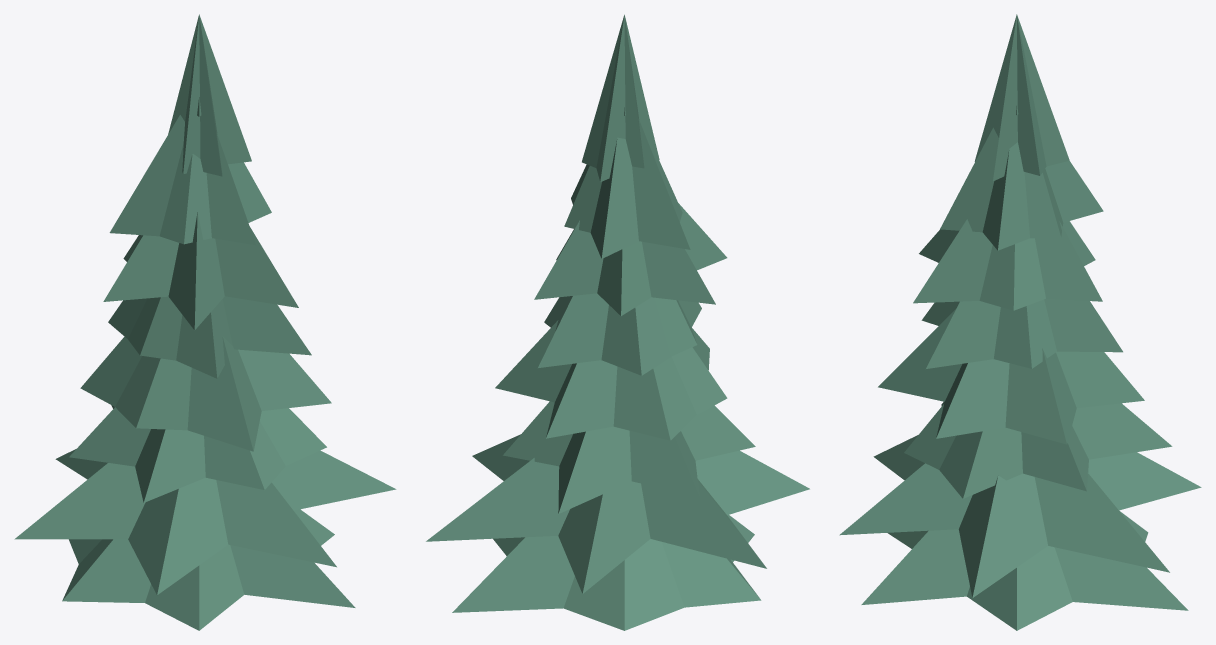
File: temperate-forest-ecology-norway-spruce-young-be199bc1__3802.glb
3 views of the same model, side by side, from view 1: azimuth 30°, elevation 25°; view 2: azimuth 150°, elevation 25°; view 3: azimuth 270°, elevation 25° (orthographic).
Parts seen in each view (by area): view 1: norway-spruce-young; view 2: norway-spruce-young; view 3: norway-spruce-young.
Boxes of the visible parts, x1,y1,x2,y2 form: norway-spruce-young: (14,14,396,630); norway-spruce-young: (426,14,809,630); norway-spruce-young: (839,14,1201,630).
Bounding box in the file's own units: 3.32 × 5.22 × 3.09.
